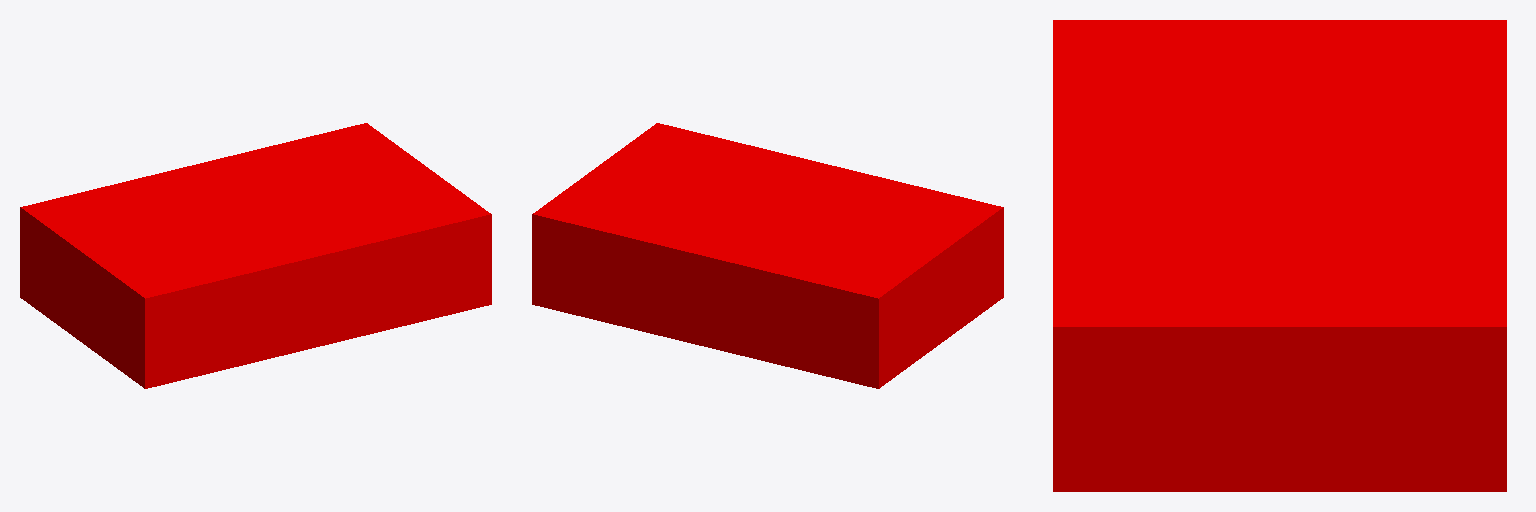
The robot description file, URDF, robot "wall1":
<?xml version="1.0"?>
<robot name="wall1">
	<link name="base">
	<inertial>
        	 <origin xyz="0 0 0" rpy="0 0 0"/>
        	 <mass value="1"/>
        	 <inertia ixx="0.000683333"  ixy="0"  ixz="0" iyy="0.000683333" iyz="0" izz="0.000683333" />
       </inertial>
		<visual>
			<origin xyz="0 0 0" rpy="0 0 0" />
			<geometry>
			<box size="0.08 0.05 0.02" />
			</geometry>
			<material>
				<color rgba="1 0 0 1" />
			</material>
		</visual>
	<collision>
            <origin xyz="0 0 0" rpy="0 0 0" />
            <geometry>
			<box size="0.08 0.05 0.02" />
            </geometry>
		<material>
			<color rgba="1 0 0 1" />
		</material>
        </collision>
	</link>
</robot>

--- Render facts (derived) ---
The picture shows the robot from 3 angles, left to right: view 1: azimuth 30°, elevation 25°; view 2: azimuth 150°, elevation 25°; view 3: azimuth 270°, elevation 25°; orthographic projection.
Robot: wall1 — 1 links, 0 joints (none); root link base; default pose: all joints at 0.
Visible links, largest first — view 1: base; view 2: base; view 3: base.
Link boxes in pixels (left/top/right/bottom): base: left=20, top=123, right=491, bottom=388; base: left=532, top=123, right=1003, bottom=388; base: left=1053, top=20, right=1506, bottom=491.
Size in the robot's own frame: 0.08 by 0.05 by 0.02 metres.
Geometry: primitives only (box / cylinder / sphere), no mesh files.
